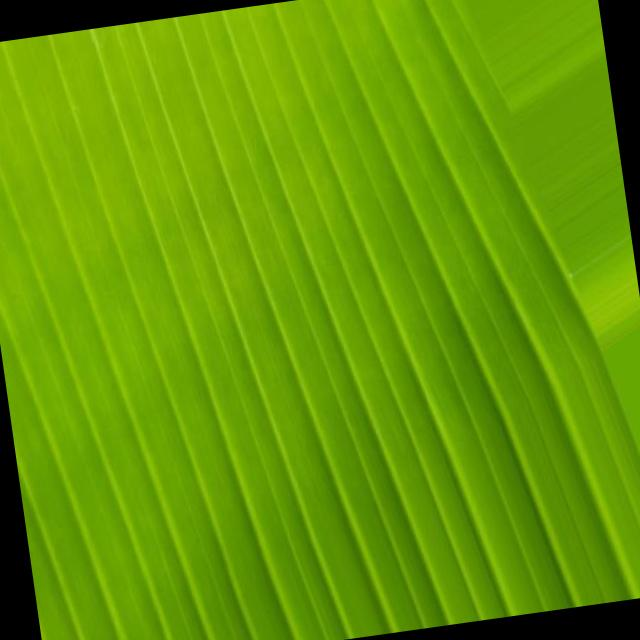Banana_Healthy: (14, 0, 485, 589)
